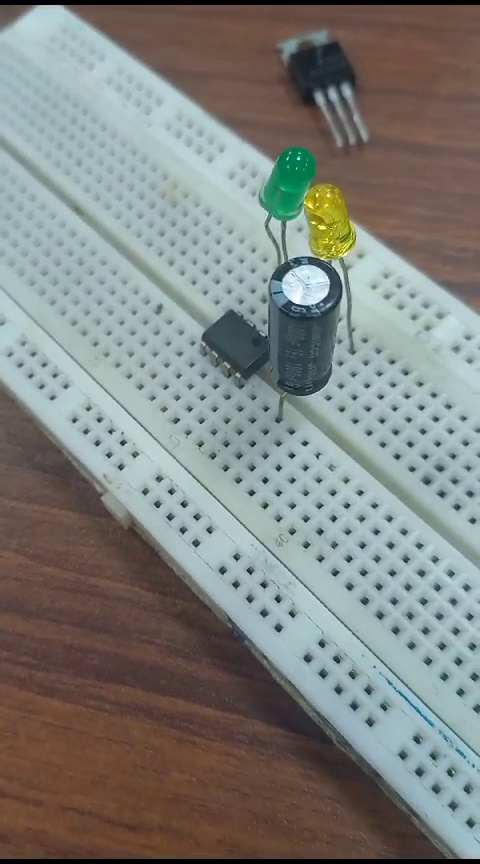IC: (178, 304, 276, 393)
LED: (244, 116, 312, 243), (300, 183, 375, 256)
capacitor: (250, 260, 359, 427)
voltage regulator: (264, 27, 391, 152)
